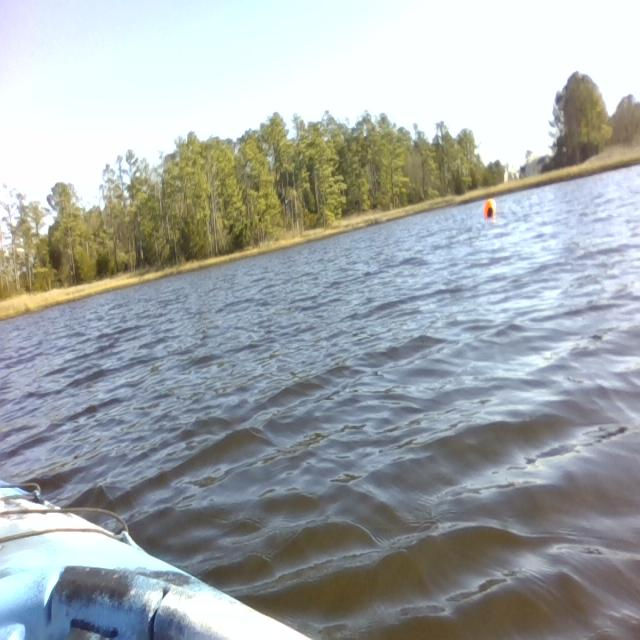Buoy: (482, 194, 502, 226)
